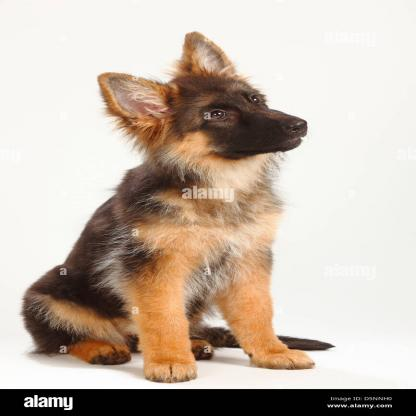german shepherd: (25, 35, 315, 380)
